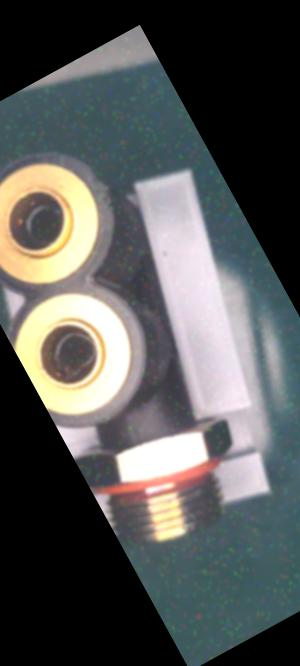bump: (84, 163, 116, 202)
off-centered: (41, 313, 111, 383)
white mark: (125, 422, 146, 443)
